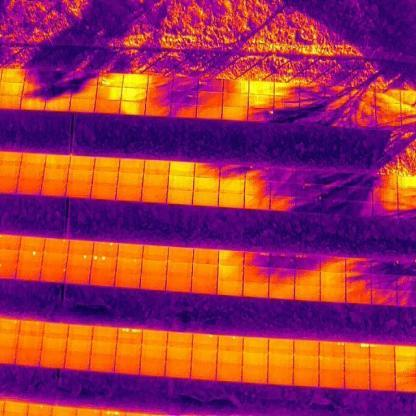Diode: (370, 344, 394, 361), (344, 344, 369, 360)
Hotspot: (18, 250, 44, 268), (40, 267, 66, 283), (192, 334, 217, 350), (218, 336, 243, 352), (18, 321, 44, 336), (117, 328, 142, 343), (66, 254, 92, 268), (116, 258, 142, 272), (44, 238, 69, 252), (93, 242, 118, 256), (319, 342, 344, 356), (92, 255, 116, 269), (27, 404, 52, 416), (98, 74, 122, 86)
Normal: (166, 274, 192, 294), (16, 178, 42, 196), (319, 356, 344, 374), (192, 190, 218, 207), (66, 268, 92, 285), (243, 282, 270, 298), (168, 247, 193, 264), (170, 162, 196, 178), (66, 183, 92, 199), (116, 186, 142, 202), (142, 246, 168, 262), (193, 248, 219, 264), (192, 263, 218, 279), (218, 266, 244, 282), (320, 272, 346, 288), (140, 274, 166, 290), (217, 280, 243, 296), (270, 284, 296, 300), (295, 285, 321, 301), (142, 332, 168, 348), (166, 334, 192, 350), (242, 338, 268, 354), (89, 357, 115, 373), (369, 360, 395, 376), (139, 362, 165, 378), (190, 364, 216, 380), (242, 368, 268, 384), (268, 370, 294, 386), (344, 374, 370, 390), (370, 376, 396, 392), (42, 180, 66, 197), (242, 353, 269, 368), (39, 353, 66, 368), (164, 363, 191, 378), (46, 96, 71, 112), (94, 156, 119, 172), (119, 158, 144, 174), (142, 188, 167, 204), (168, 188, 193, 204), (219, 250, 244, 266), (91, 270, 116, 286), (115, 358, 140, 374), (344, 358, 369, 374), (217, 366, 242, 382), (4, 400, 29, 416), (68, 240, 94, 255), (115, 273, 141, 288), (66, 341, 92, 356), (115, 343, 141, 358), (16, 351, 42, 366), (64, 355, 90, 370), (293, 357, 319, 372), (294, 340, 318, 356), (294, 371, 318, 387), (194, 177, 221, 191), (41, 339, 68, 353), (96, 86, 121, 101), (96, 99, 121, 114), (70, 156, 95, 171), (92, 185, 117, 200), (268, 341, 293, 356), (120, 101, 146, 115), (197, 105, 223, 119), (222, 106, 248, 120), (144, 160, 170, 174), (92, 172, 118, 186), (118, 172, 144, 186), (168, 176, 194, 190), (42, 254, 68, 268), (142, 260, 168, 274), (167, 262, 193, 276), (191, 280, 217, 294), (320, 288, 346, 302), (42, 324, 68, 338), (68, 326, 94, 340), (17, 338, 43, 352), (90, 342, 116, 356), (140, 348, 166, 362), (166, 348, 192, 362), (191, 350, 217, 364), (216, 352, 242, 366), (268, 355, 294, 369), (318, 374, 344, 388), (22, 95, 46, 110), (220, 194, 244, 209), (92, 327, 116, 342), (249, 81, 274, 95), (70, 99, 95, 113), (143, 174, 168, 188), (20, 236, 45, 250), (1, 68, 26, 82), (123, 74, 148, 88), (248, 95, 274, 108), (122, 88, 146, 102), (22, 153, 46, 167), (46, 154, 70, 168), (68, 170, 92, 184), (220, 178, 244, 192), (118, 244, 142, 258), (43, 168, 68, 181), (222, 93, 249, 105), (0, 82, 24, 95), (20, 167, 44, 179), (17, 268, 41, 280)
Shadow: (349, 86, 376, 104), (346, 186, 373, 203), (372, 186, 399, 203), (346, 201, 373, 218), (372, 202, 399, 219), (245, 194, 270, 212), (271, 250, 296, 268), (348, 102, 376, 118), (296, 181, 322, 198), (244, 251, 270, 268), (374, 88, 401, 104), (346, 170, 373, 186), (270, 180, 297, 196), (270, 196, 297, 212), (371, 257, 398, 273), (374, 103, 402, 118), (248, 107, 274, 123), (295, 166, 321, 182), (372, 172, 398, 188), (295, 254, 321, 270), (346, 258, 372, 274), (244, 267, 270, 283), (372, 274, 398, 290), (346, 288, 372, 304), (300, 96, 325, 112), (195, 162, 220, 178), (220, 163, 245, 179), (172, 74, 198, 89), (46, 83, 72, 98), (172, 89, 198, 104), (146, 102, 172, 117), (270, 268, 296, 283), (346, 273, 372, 288), (26, 68, 52, 83), (322, 169, 346, 185), (371, 290, 398, 304), (171, 103, 196, 118), (245, 164, 270, 179), (297, 198, 322, 213), (295, 270, 320, 285), (198, 78, 224, 92), (224, 80, 250, 94), (274, 82, 300, 96), (300, 82, 326, 96), (197, 92, 223, 106), (274, 110, 300, 124), (300, 111, 326, 125), (376, 118, 402, 132), (270, 166, 296, 180), (320, 258, 346, 272), (322, 199, 346, 214), (148, 74, 173, 88), (71, 84, 96, 98), (147, 88, 172, 102), (245, 180, 270, 194), (274, 95, 300, 108), (24, 82, 48, 96), (322, 186, 346, 200), (72, 72, 98, 84), (52, 72, 72, 82)
